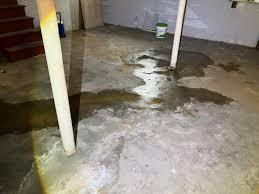water accumulation: (0, 48, 239, 136)
